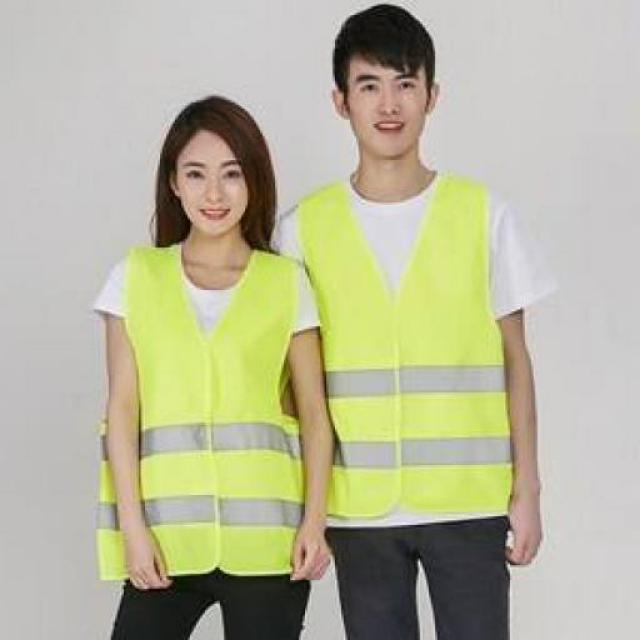person: (294, 5, 544, 640), (85, 87, 332, 640)
vest: (300, 166, 514, 529), (95, 243, 318, 578)
